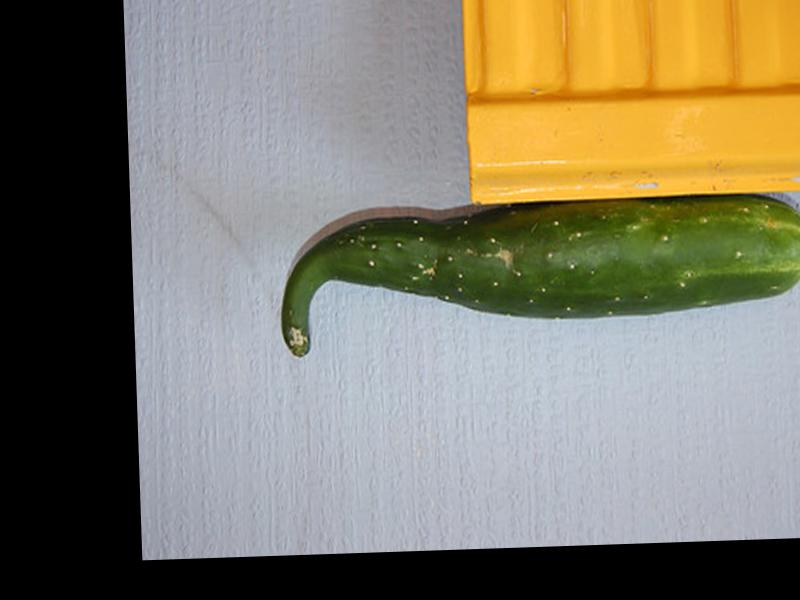Cucumber: (275, 191, 800, 358)
